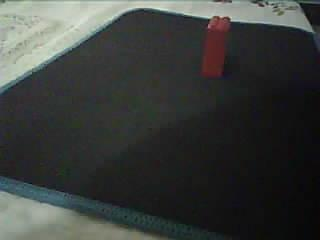lego: (199, 15, 230, 78)
